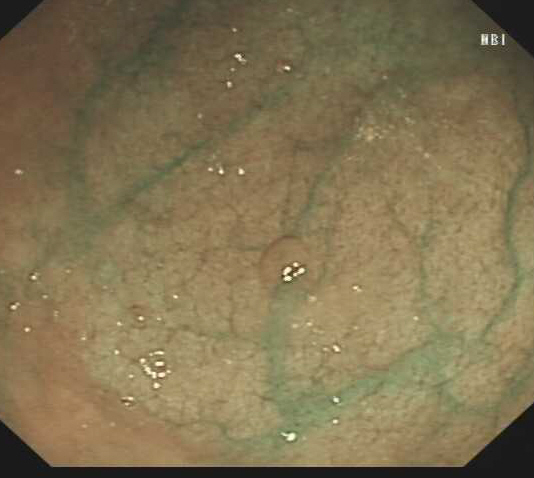adenoma: (254, 233, 323, 301)
